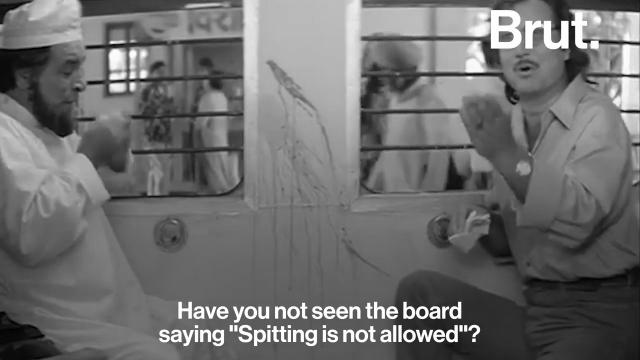spit: (254, 52, 366, 276)
